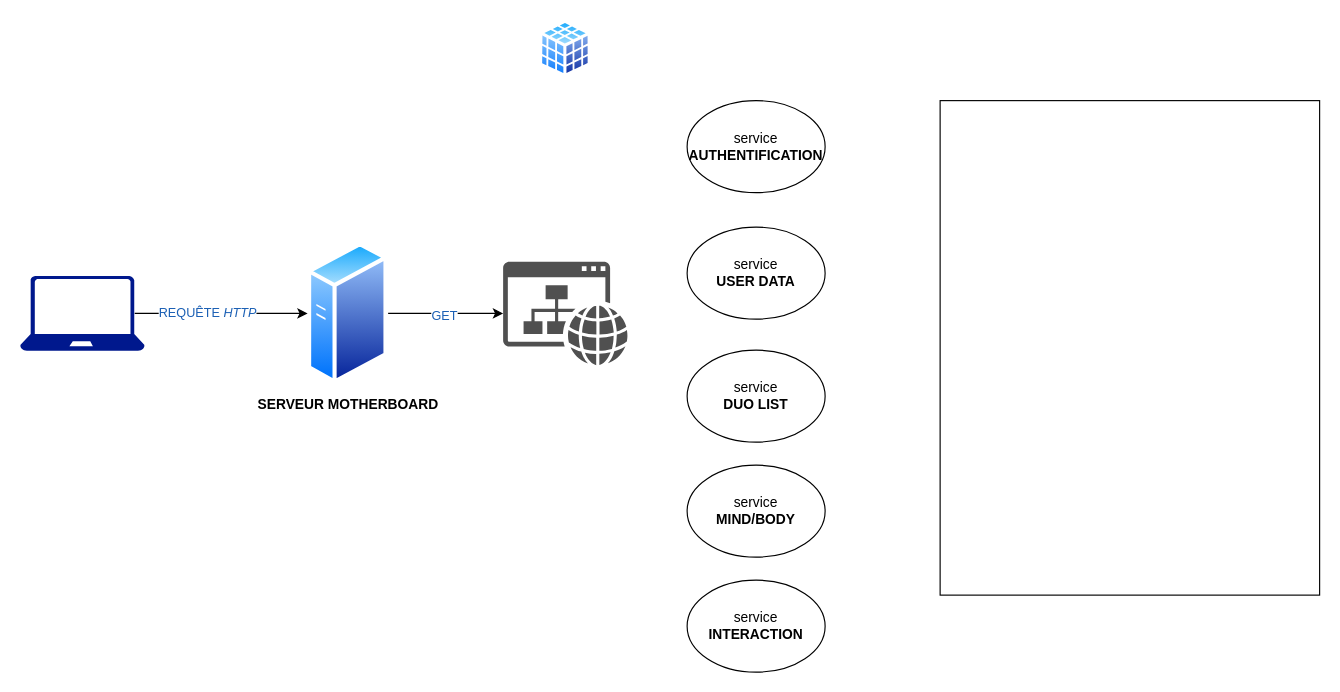
Image size: 1340x692. Some labels were removed from this diagram. Here are the shapes that lost their labels. From the top down, the centre of each, then its label:
At point (82, 312): "NAVIGATEUR CLIENT".
At point (565, 313): "LANDING PAGE MOTHERBOARD".
At point (1129, 347): "MICROSERVICES".
